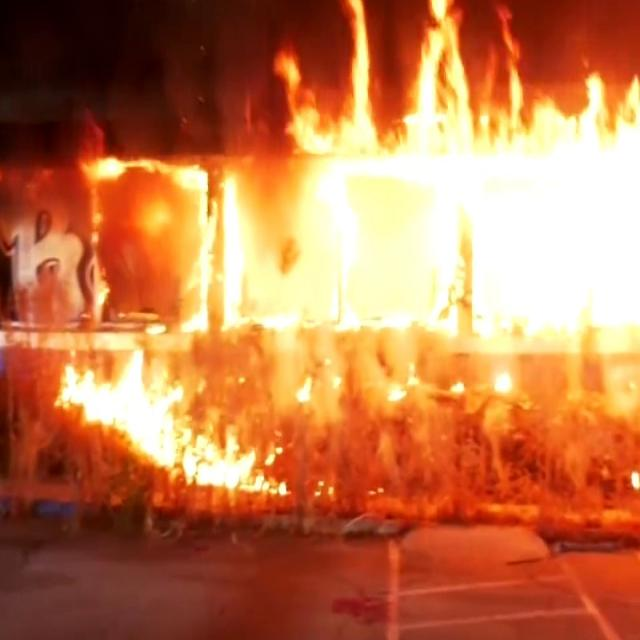fire: (311, 0, 640, 358), (57, 316, 177, 468)
